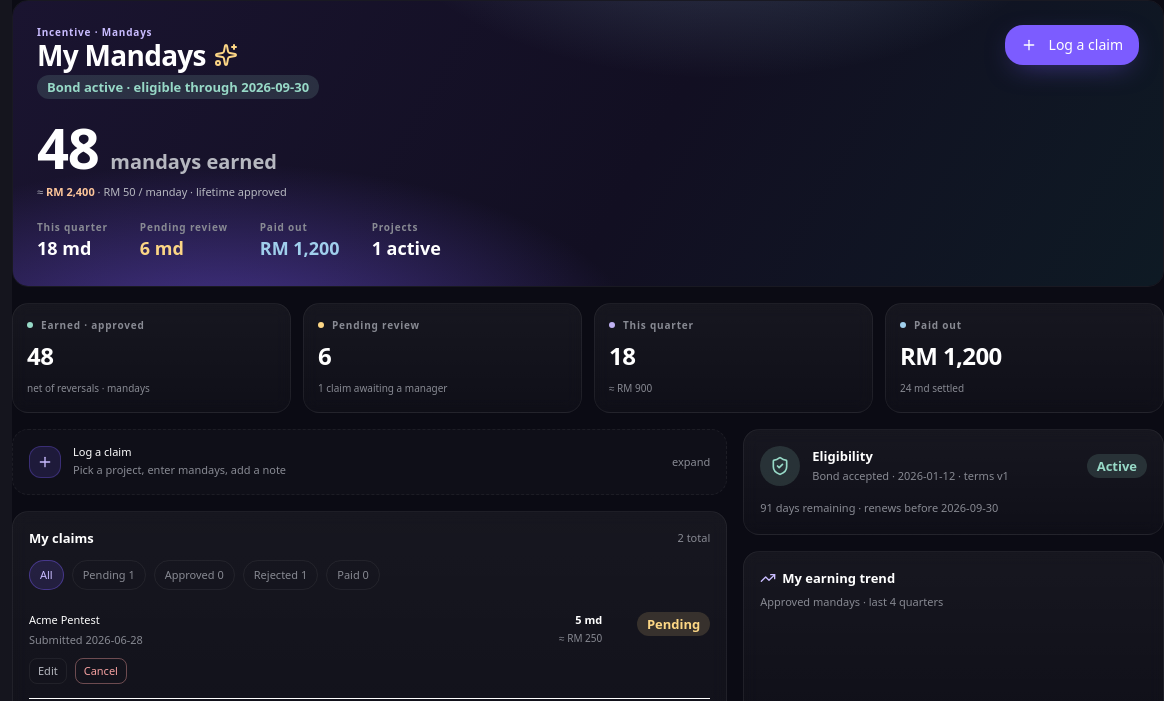
Scenario: MyIncentivePage › exposes Edit + Cancel on a pending claim and opens the edit composer
This screenshot has width=1164, height=701.
Expected: the heading "My Mandays" is shown, [37,36,238,74]
Expected: the button "Cancel" is shown, [75,658,127,684]
Click the button "Edit": (48, 671) [29,658,67,684]
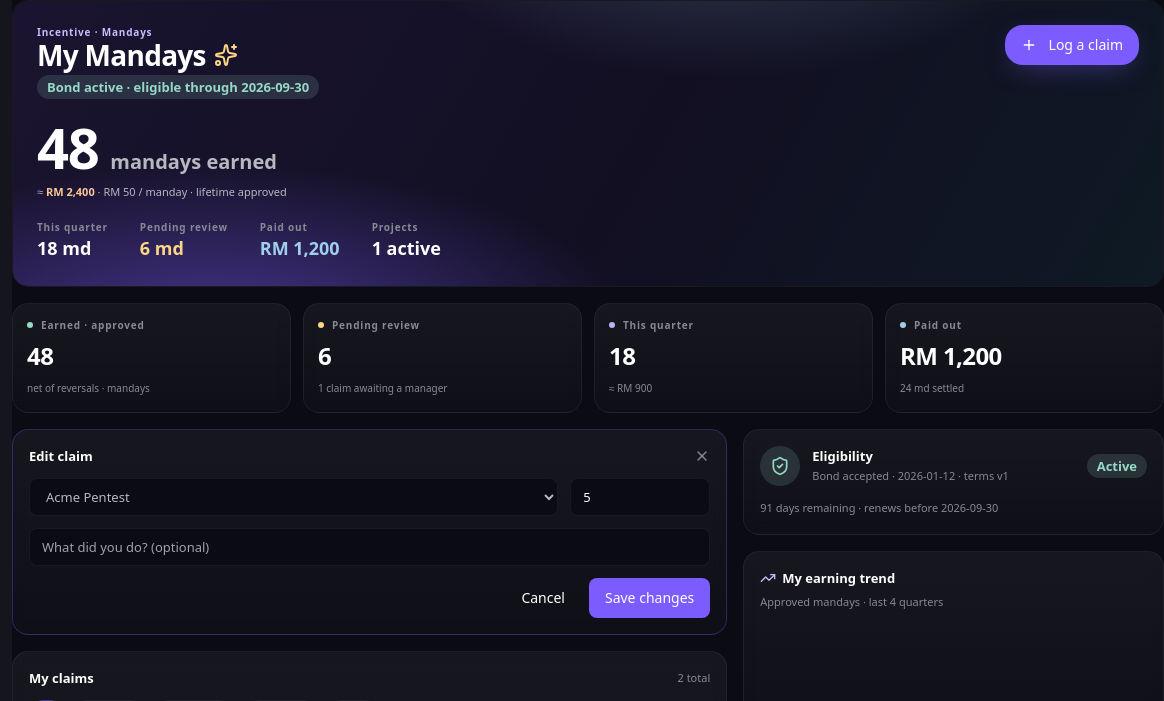
Expected: the text "Edit claim" is shown, [29,446,93,466]
